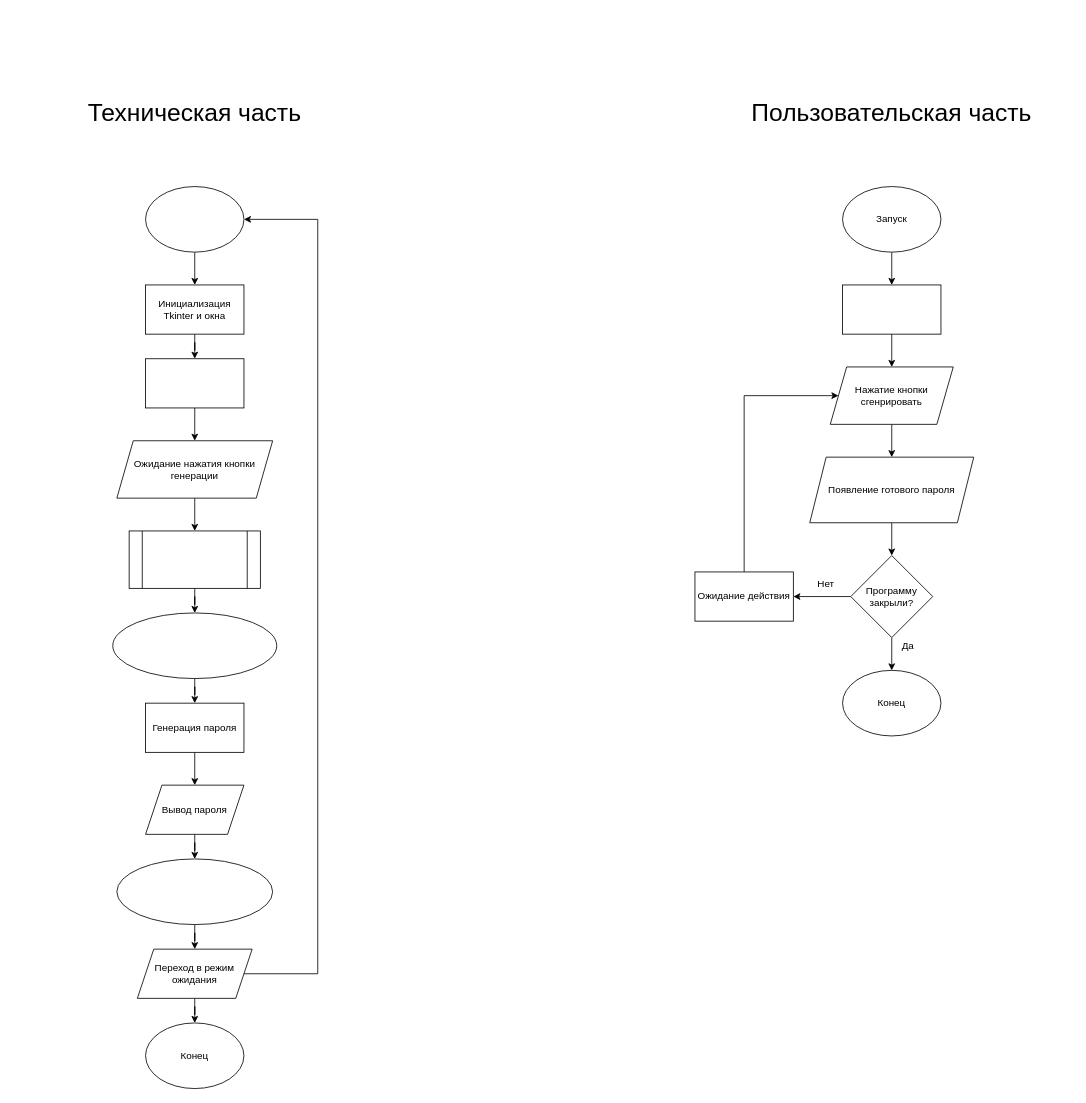
Image size: 1086x1103. Some labels were removed from this diagram. Here are the shapes that lost their labels. From the top down, the centre of each, then its label:
At (x=194, y=219): "Начало".
At (x=891, y=309): "Появление GUI".
At (x=194, y=383): "Создание и размещение элементов окна".
At (x=194, y=559): "Вызов функции generate_password()".
At (x=194, y=645): "Начало generate_password()".
At (x=194, y=891): "Конец generate_password()".
